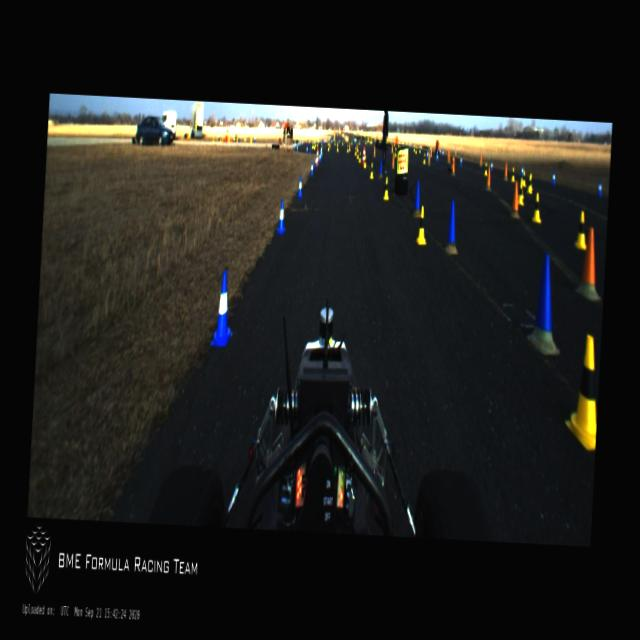blue_cone: (210, 270, 237, 348), (276, 199, 288, 235), (596, 176, 604, 201), (296, 175, 304, 198), (310, 161, 314, 177), (552, 171, 556, 185), (520, 164, 524, 178), (314, 156, 318, 169), (435, 153, 439, 164), (491, 160, 494, 173), (460, 154, 462, 168)
large_orange_cone: (315, 146, 320, 168), (362, 146, 366, 166)
yellow_cone: (566, 333, 601, 450), (414, 204, 428, 246), (574, 208, 588, 250), (532, 192, 542, 224), (518, 182, 526, 208), (526, 173, 534, 194), (384, 176, 390, 200), (510, 166, 516, 182), (483, 162, 488, 177), (522, 170, 526, 187), (370, 162, 374, 178), (363, 156, 368, 168), (422, 151, 426, 165), (358, 151, 361, 164), (356, 148, 359, 160), (346, 144, 349, 154), (355, 147, 357, 156), (336, 144, 338, 152)
